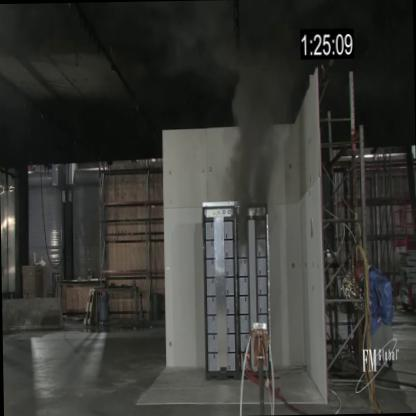smoke: (225, 61, 292, 199)
